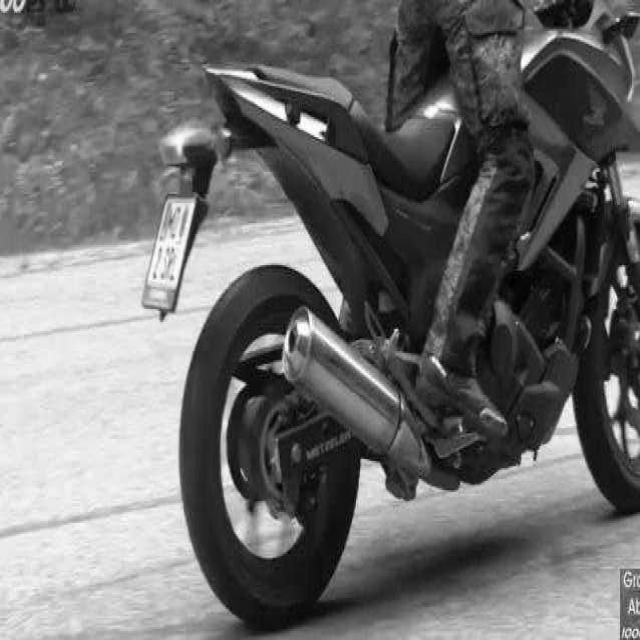Motorcycle: (142, 0, 640, 627)
